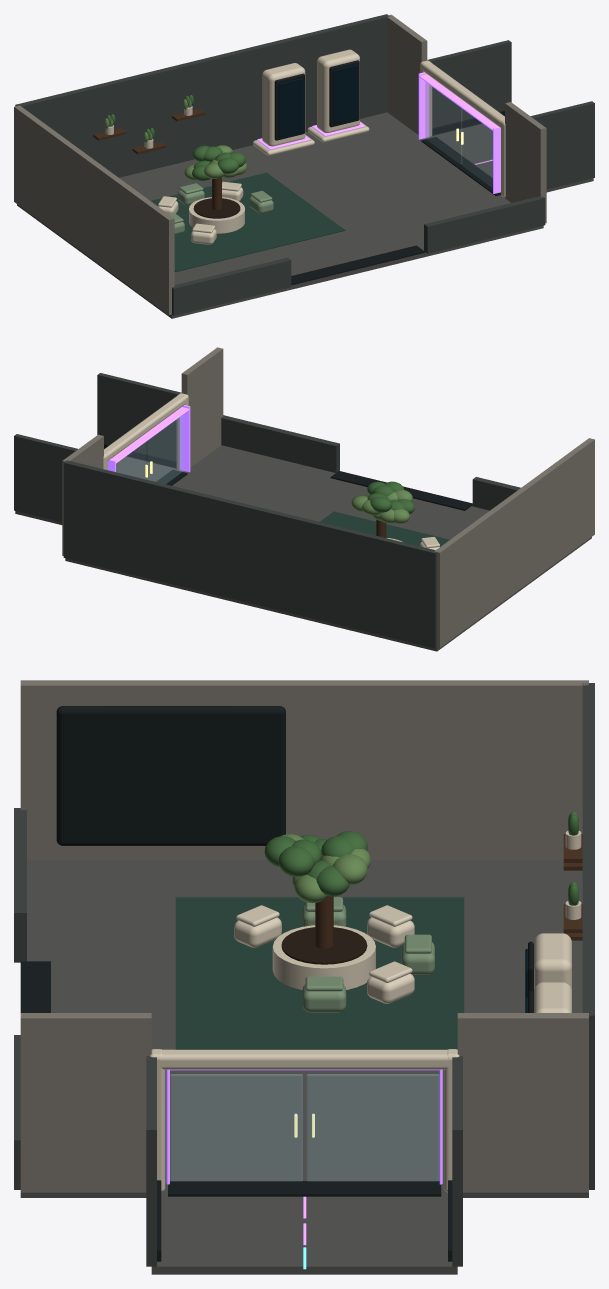
The model's file is project-lobby-BiQEFZvE.glb.
3 renders of one model, top to bottom at view 1: azimuth 30°, elevation 25°; view 2: azimuth 150°, elevation 25°; view 3: azimuth 270°, elevation 25°, orthographic. The views are drawn at different scales.
Visible parts, largest first — view 1: Lobby_Ground, Lobby_BackWall, Lobby_LeftWall, Lobby_Rug, Lobby_ProjectConnector_BackWall, Lobby_ProjectConnector_FrontWall, Lobby_FrontWall_Right, Lobby_FrontWall_Left, Lobby_RightWall_Front, Lobby_RightWall_Back, Lobby_ProjectDoor_Glass_Back, Lobby_ProjectConnector_Floor (+17 smaller); view 2: Lobby_BackWall, Lobby_LeftWall, Lobby_Ground, Lobby_ProjectConnector_FrontWall, Lobby_ProjectConnector_BackWall, Lobby_FrontWall_Right, Lobby_RightWall_Front, Lobby_ProjectDoor_Glass_Front, Lobby_Rug, Lobby_ProjectDoor_Right_Header, Lobby_FrontWall_Left, Lobby_EntryThreshold (+5 smaller); view 3: Lobby_Ground, Lobby_LeftWall, Lobby_AI_Board_Frame, Lobby_Rug, Lobby_RightWall_Front, Lobby_RightWall_Back, Lobby_ProjectConnector_Floor, Lobby_ProjectDoor_Glass_Back, Lobby_ProjectDoor_Glass_Front, Lobby_ProjectDoor_Right_Header, Lobby_BackWall, Lobby_ProjectDoor_Right_Threshold (+18 smaller).
Boxes of the visible parts, left/top/right/bottom form: Lobby_Ground: left=17, top=112, right=543, bottom=318; Lobby_BackWall: left=15, top=14, right=389, bottom=177; Lobby_LeftWall: left=14, top=105, right=174, bottom=314; Lobby_Rug: left=151, top=172, right=345, bottom=271; Lobby_ProjectConnector_BackWall: left=427, top=40, right=511, bottom=135; Lobby_ProjectConnector_FrontWall: left=530, top=101, right=594, bottom=189; Lobby_FrontWall_Right: left=424, top=196, right=545, bottom=253; Lobby_FrontWall_Left: left=172, top=257, right=291, bottom=315; Lobby_RightWall_Front: left=505, top=102, right=546, bottom=223; Lobby_RightWall_Back: left=387, top=14, right=427, bottom=134; Lobby_ProjectDoor_Glass_Back: left=425, top=82, right=461, bottom=164; Lobby_ProjectConnector_Floor: left=426, top=123, right=593, bottom=192; Lobby_BackWall: left=63, top=460, right=436, bottom=648; Lobby_LeftWall: left=434, top=438, right=594, bottom=647; Lobby_Ground: left=65, top=445, right=591, bottom=651; Lobby_ProjectConnector_FrontWall: left=97, top=373, right=181, bottom=468; Lobby_ProjectConnector_BackWall: left=14, top=434, right=77, bottom=521; Lobby_FrontWall_Right: left=221, top=415, right=339, bottom=472; Lobby_RightWall_Front: left=181, top=347, right=223, bottom=467; Lobby_ProjectDoor_Glass_Front: left=147, top=415, right=183, bottom=483; Lobby_Rug: left=320, top=511, right=449, bottom=546; Lobby_ProjectDoor_Right_Header: left=103, top=395, right=187, bottom=461; Lobby_FrontWall_Left: left=472, top=477, right=520, bottom=510; Lobby_EntryThreshold: left=330, top=471, right=472, bottom=510; Lobby_Ground: left=20, top=860, right=588, bottom=1197; Lobby_LeftWall: left=20, top=680, right=588, bottom=859; Lobby_AI_Board_Frame: left=56, top=706, right=285, bottom=845; Lobby_Rug: left=175, top=897, right=464, bottom=1049; Lobby_RightWall_Front: left=20, top=1013, right=151, bottom=1192; Lobby_RightWall_Back: left=457, top=1013, right=588, bottom=1192; Lobby_ProjectConnector_Floor: left=151, top=1190, right=457, bottom=1274; Lobby_ProjectDoor_Glass_Back: left=306, top=1074, right=438, bottom=1181; Lobby_ProjectDoor_Glass_Front: left=170, top=1074, right=302, bottom=1181; Lobby_ProjectDoor_Right_Header: left=157, top=1049, right=452, bottom=1069; Lobby_BackWall: left=582, top=683, right=594, bottom=1189; Lobby_ProjectDoor_Right_Threshold: left=168, top=1181, right=441, bottom=1196.
Size of the model in its own units: 22.46 by 4.6 by 13.29.
